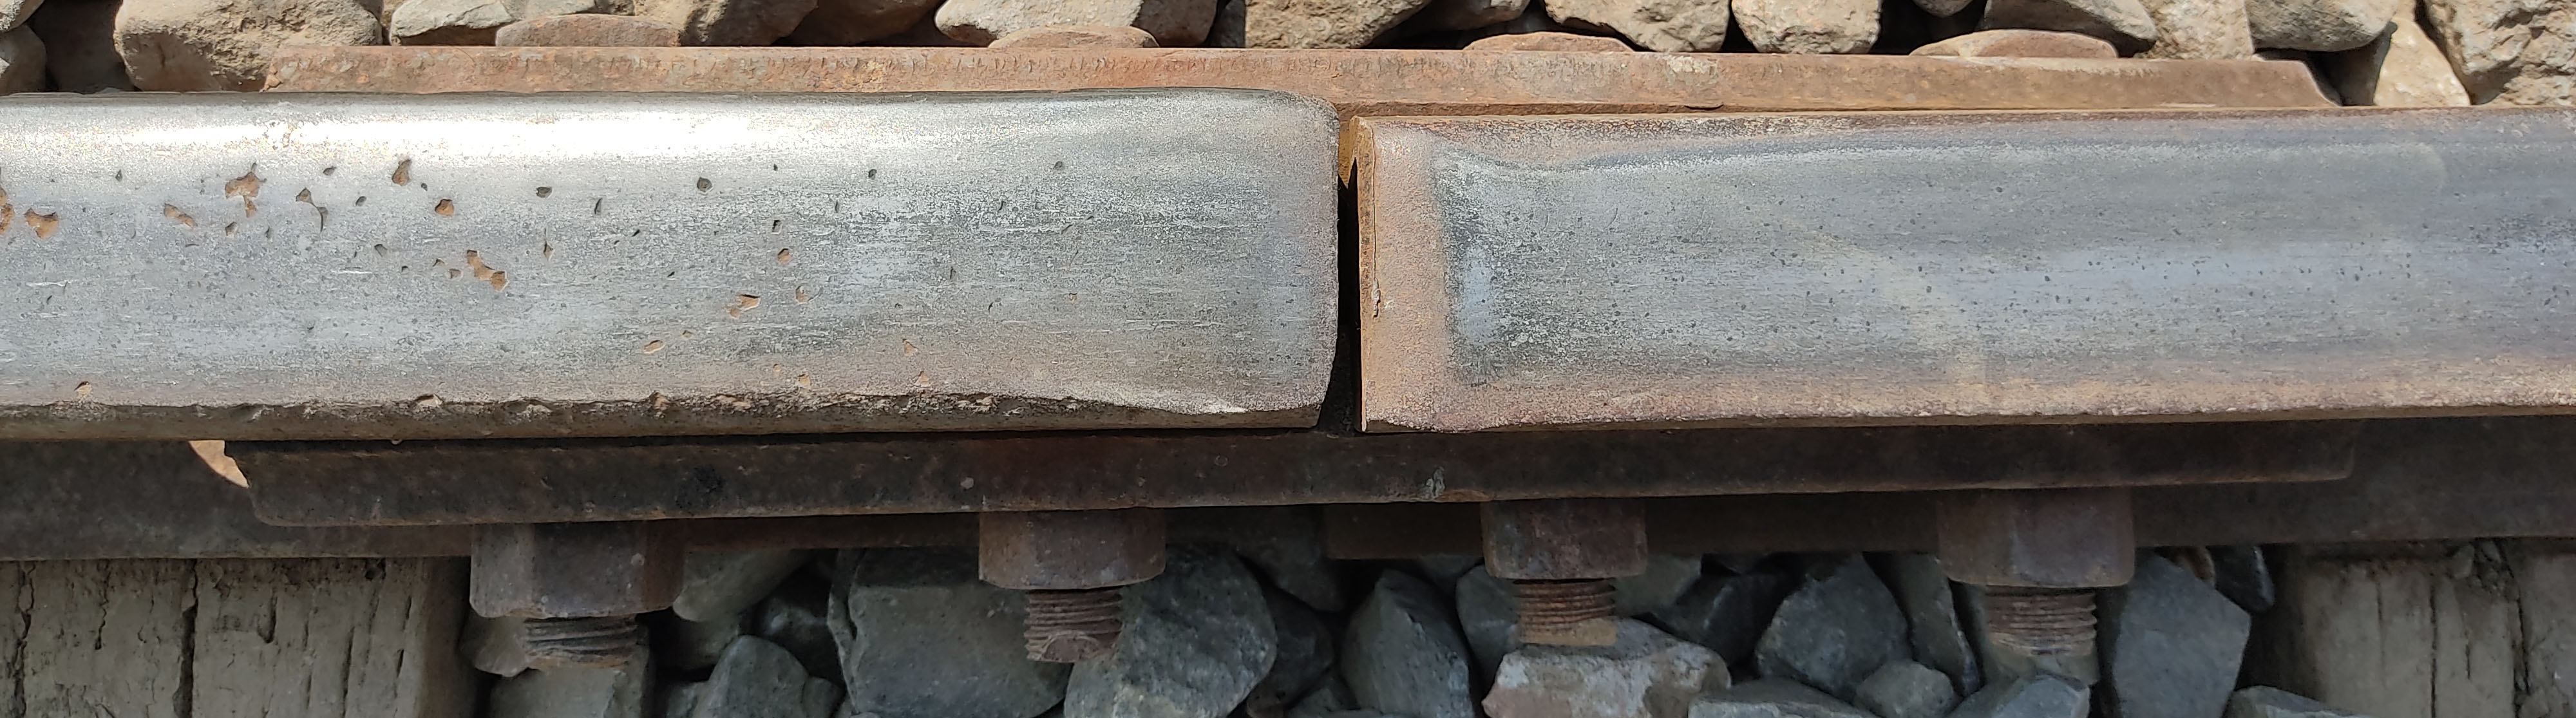error2: (1265, 66, 1464, 518)
